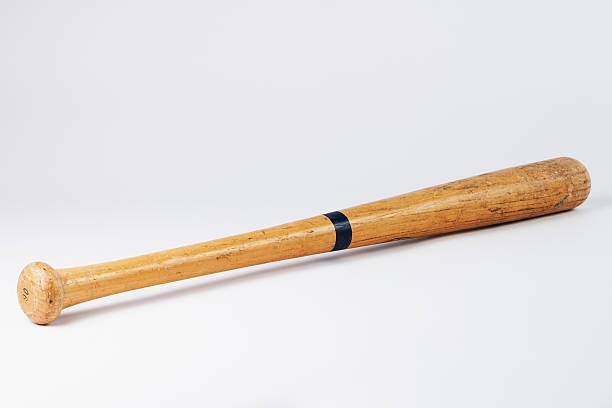bita: (14, 159, 584, 325)
